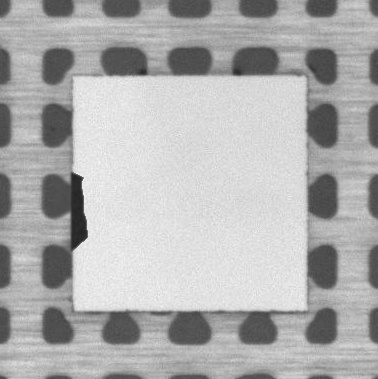DIE_BROKEN: (69, 171, 92, 250)
